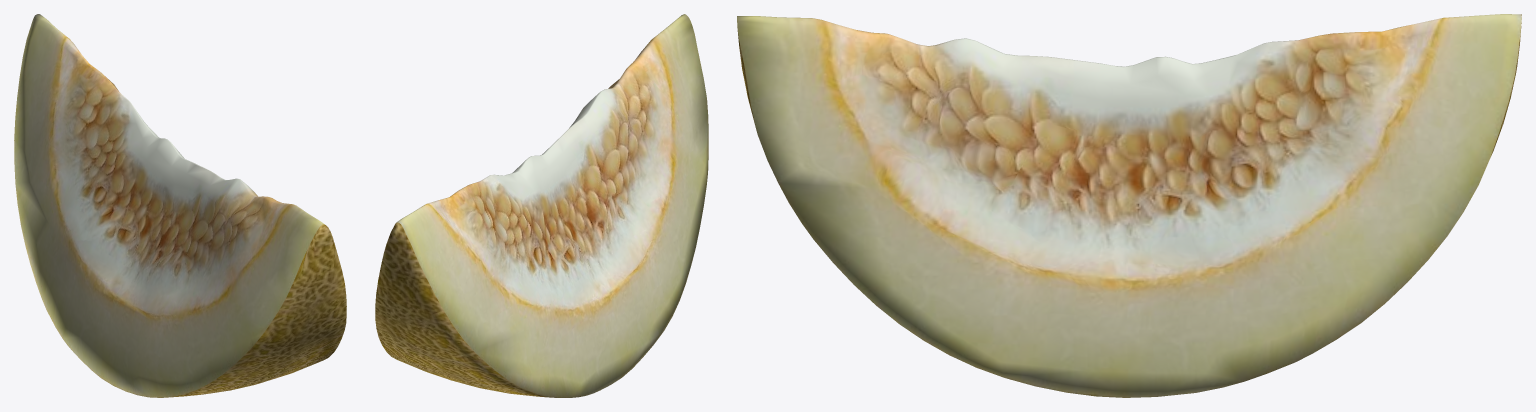
The model's file is Melon.obj.
3 views of the same model, side by side, from view 1: azimuth 30°, elevation 25°; view 2: azimuth 150°, elevation 25°; view 3: azimuth 270°, elevation 25° (orthographic). The views are drawn at different scales.
Visible parts, largest first — view 1: Melon.002; view 2: Melon.002; view 3: Melon.002.
Boxes of the visible parts, left/top/right/bottom form: Melon.002: left=14, top=14, right=346, bottom=397; Melon.002: left=375, top=14, right=708, bottom=397; Melon.002: left=737, top=14, right=1521, bottom=397.
Size of the model in its own units: 0.6421 by 0.9626 by 2.
Materials: 1 (1 with a texture image).
